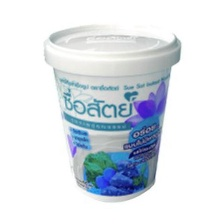paper_cup: (37, 15, 186, 207)
